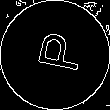P_W: (26, 32, 84, 78)
